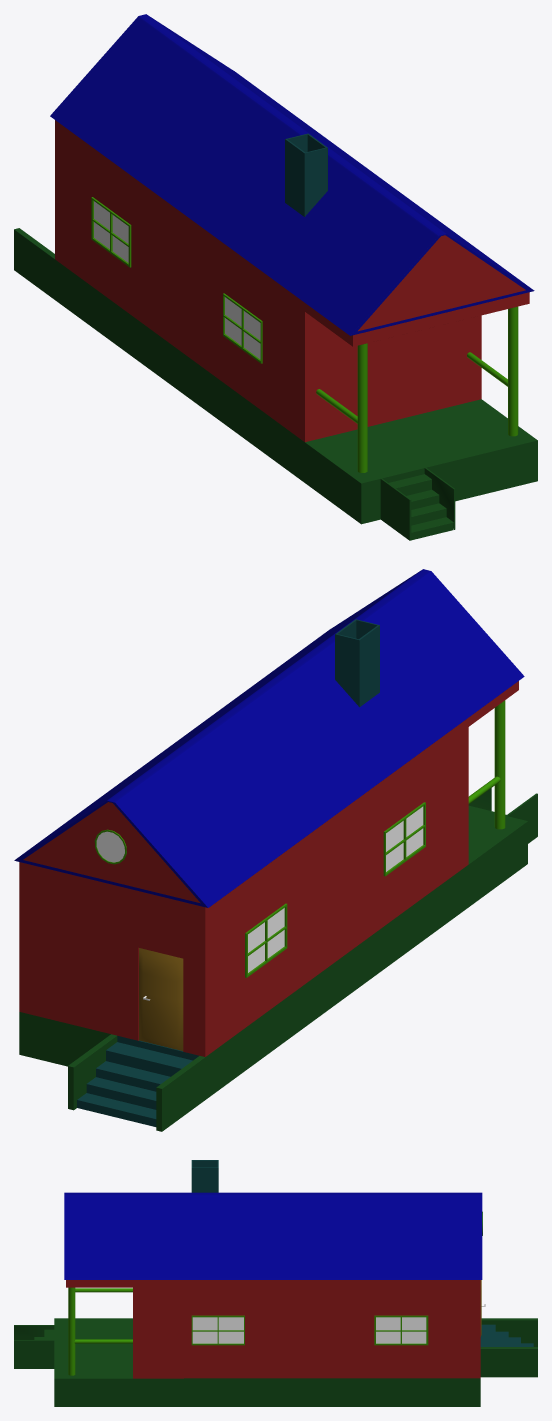
File: dom04.FBX
3 views of the same model, one above another, from view 1: azimuth 30°, elevation 25°; view 2: azimuth 150°, elevation 25°; view 3: azimuth 270°, elevation 25° (orthographic). The views are drawn at different scales.
Parts seen in each view (by area): view 1: Box001, Box003, Cylinder001; view 2: Box001, Box003, Cylinder001, Cylinder003; view 3: Box001, Box003, Cylinder001.
Boxes of the visible parts, bbox=[...] form: Box001: bbox=[14, 120, 537, 540]; Box003: bbox=[50, 14, 534, 335]; Cylinder001: bbox=[316, 306, 518, 472]; Box001: bbox=[19, 619, 537, 1131]; Box003: bbox=[14, 569, 524, 907]; Cylinder001: bbox=[468, 700, 505, 829]; Cylinder003: bbox=[94, 829, 126, 864]; Box001: bbox=[14, 1160, 537, 1406]; Box003: bbox=[64, 1192, 482, 1279]; Cylinder001: bbox=[68, 1287, 132, 1375].
Size of the model in its own units: 209 by 312 by 738.
